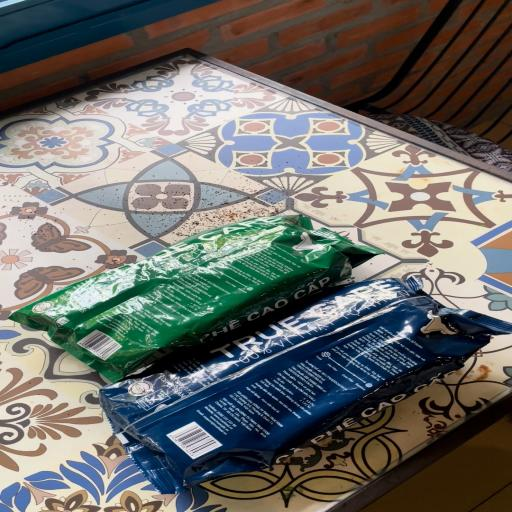cafe_hat: (100, 276, 512, 494)
cafe_xay: (10, 214, 381, 381)
